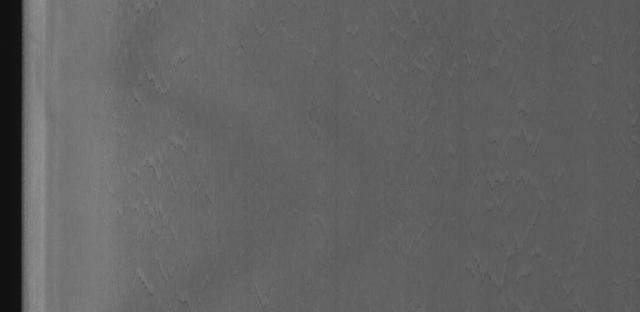silk_spot: (92, 13, 213, 275)
